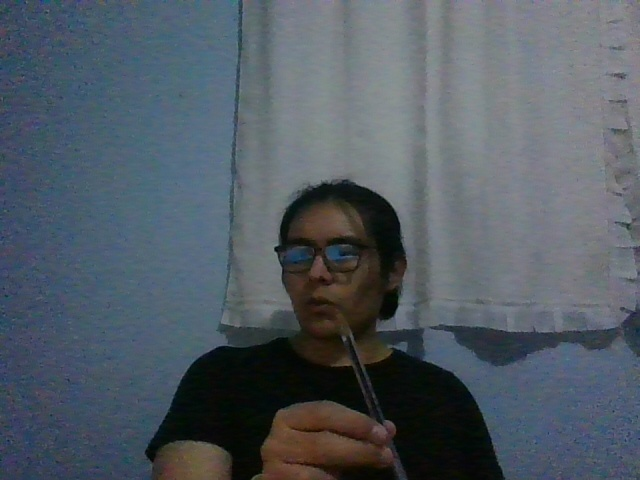pluma: (333, 307, 408, 480)
